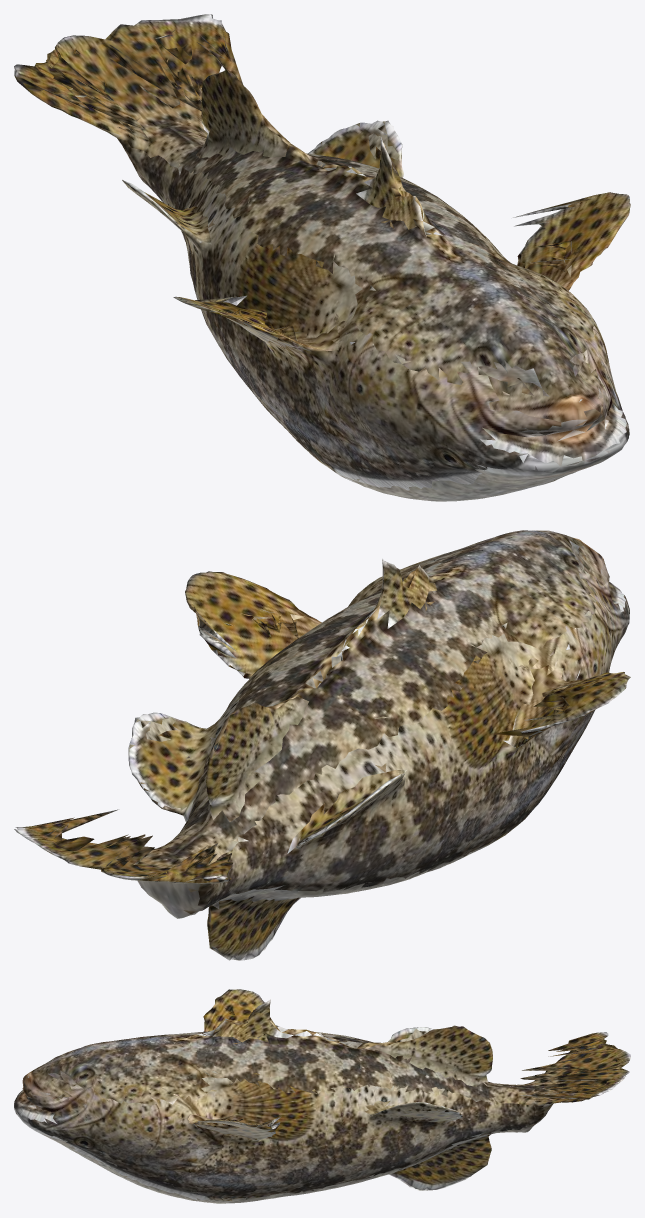
The model's file is fish_grouper2.glb.
The picture shows the model from 3 angles, top to bottom: view 1: azimuth 30°, elevation 25°; view 2: azimuth 150°, elevation 25°; view 3: azimuth 270°, elevation 25°; orthographic projection. The views are drawn at different scales.
Visible parts, largest first — view 1: orient; view 2: orient; view 3: orient.
Part boxes in pixels (left/top/right/bottom): orient: left=14, top=14, right=630, bottom=501; orient: left=14, top=530, right=630, bottom=960; orient: left=14, top=989, right=630, bottom=1203.
Size of the model in its own units: 1 by 0.6811 by 1.94.
Materials: 1 (1 with a texture image).
